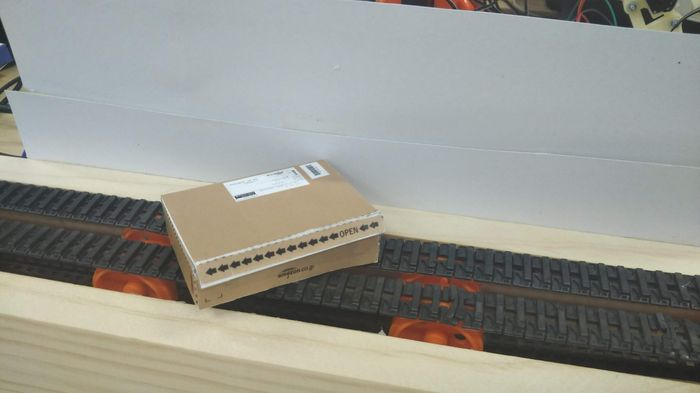box2: (158, 156, 387, 310)
